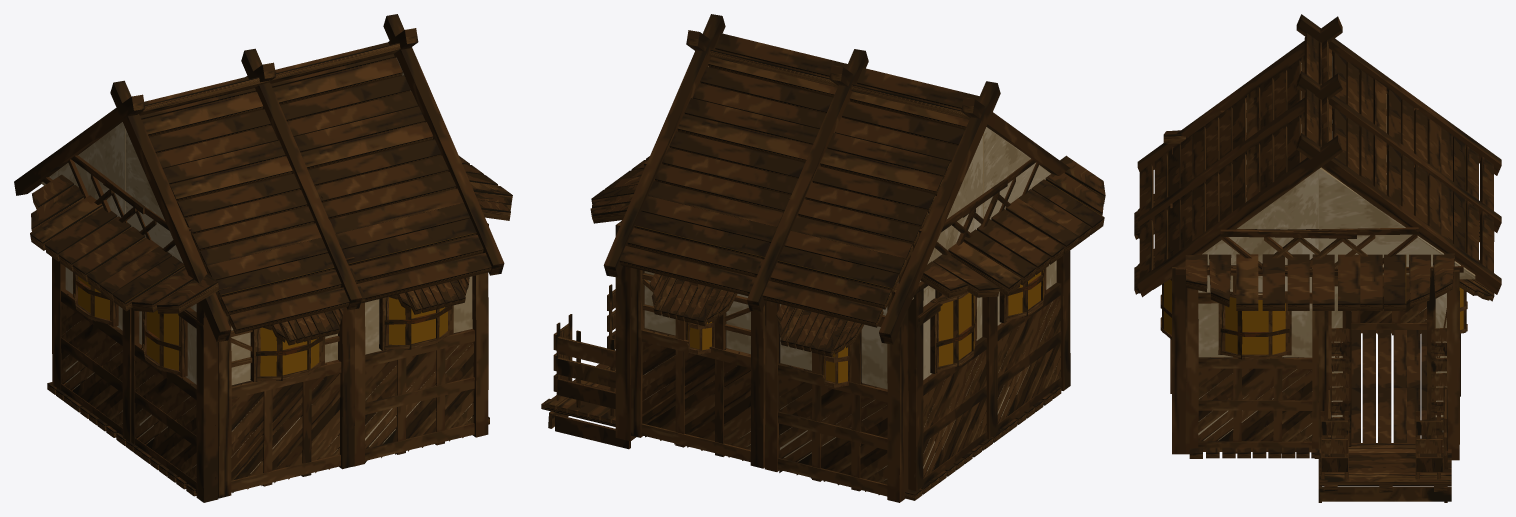
Rendered from FoodShop-col.glb.
3 renders of one model, left to right at view 1: azimuth 30°, elevation 25°; view 2: azimuth 150°, elevation 25°; view 3: azimuth 270°, elevation 25°, orthographic. The views are drawn at different scales.
Visible parts, largest first — view 1: FoodShop-col; view 2: FoodShop-col; view 3: FoodShop-col.
Boxes of the visible parts, x1,y1,x2,y2 form: FoodShop-col: (14,14,512,502); FoodShop-col: (541,14,1105,502); FoodShop-col: (1134,14,1501,502).
Size of the model in its own units: 6.36 by 5.3 by 5.3.
1 material, 1 textured.
